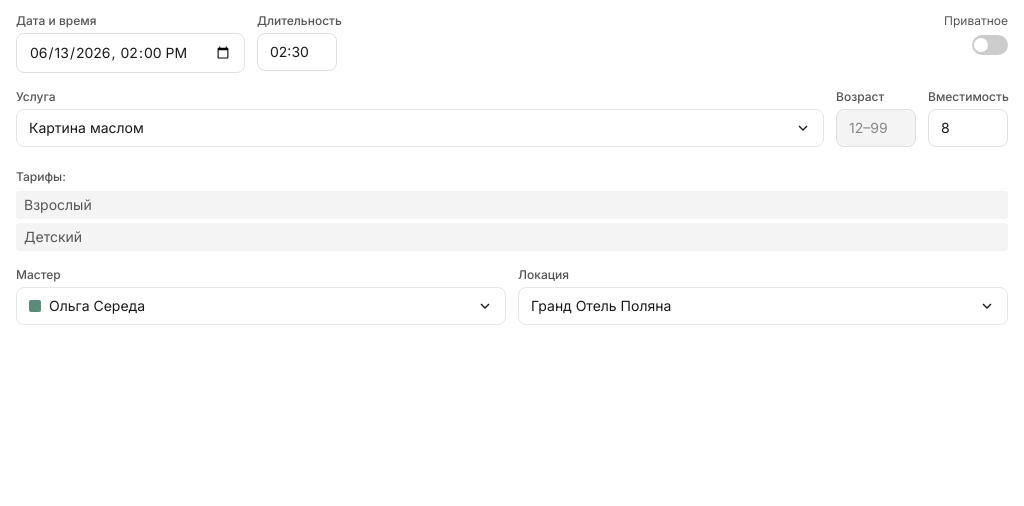
SettingsTab › renders master select with master names
// Open the dropdown to verify all master names are available
Step 1. Click the button with test id "combobox-trigger" → coordinates (97, 306), box [16, 287, 506, 325]
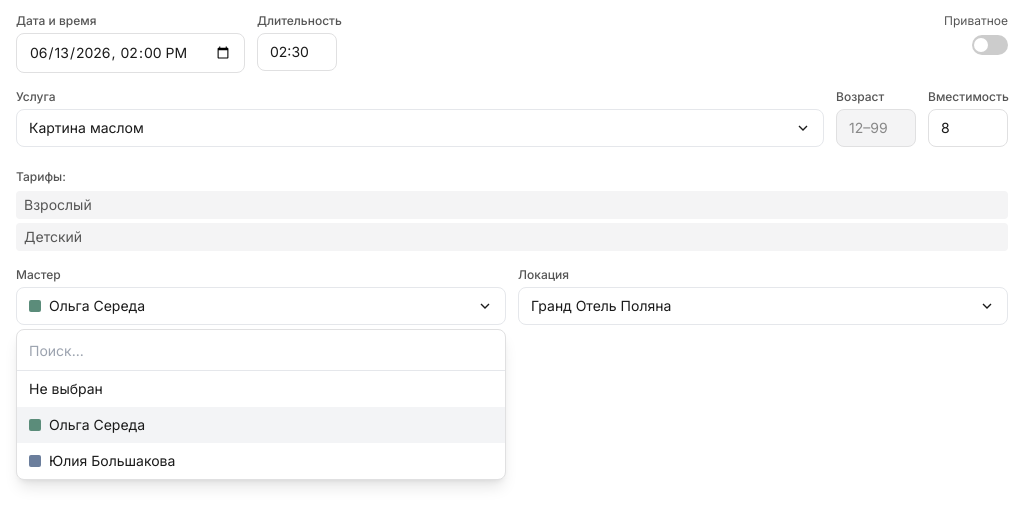
Check: the 2nd text "Ольга Середа" is shown, box [49, 415, 145, 435]
Check: the text "Юлия Большакова" is shown, box [49, 451, 175, 471]
